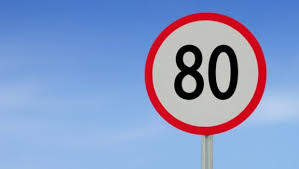Speed_limit_80km: (144, 12, 268, 135)
